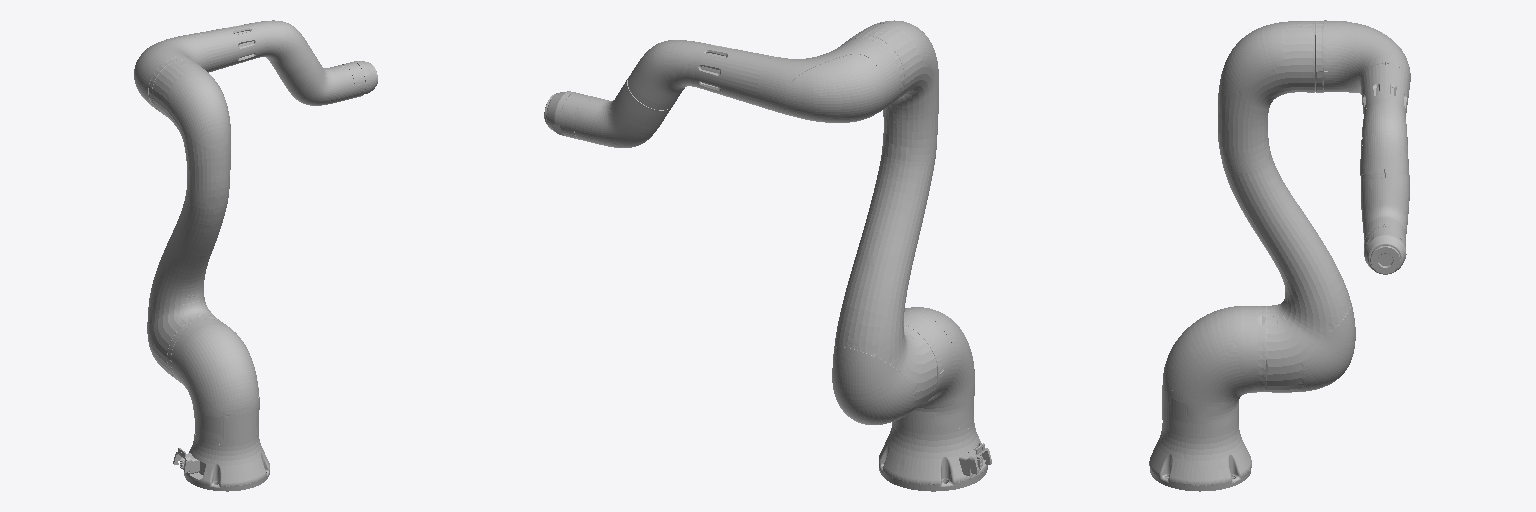
robot.urdf — yl102_sat:
<?xml version="1.0" encoding="utf-8"?>

<robot name="yl102_sat">
<link name="world"/>
  <link name="link0">

                      
    <inertial>
      <origin xyz="0.000247812 0.000247476 0.0505918" rpy="0 0 0" />
      <mass value="4.59375" />
      <inertia ixx="0.0152439" ixy="0.000200106" ixz="0.000124082" iyy="0.0273594" iyz="1.06874e-05" izz="0.0370589" />
    </inertial>
    <visual>
      <origin xyz="0 0 0" rpy="0 0 0" />
      <geometry>
        <mesh filename="meshes/link0.stl"    />
      </geometry>
      <material name="">
        <color rgba="0.75294 0.75294 0.75294 1" />
      </material>
    </visual>
    <collision>
      <origin xyz="0 0 0" rpy="0 0 0" />
      <geometry>
        <mesh filename="meshes/link0.stl"    />
      </geometry>
    </collision>
  </link>

  <link name="link1">
    <inertial>
    <origin xyz="0.000142015 0.0285074 0.119455" rpy="0 0 0" />
    <mass value="10.51657" />
    <inertia ixx="0.0551209" ixy="-5.13223e-05" ixz="-4.83089e-05" iyy="0.0494305" iyz="-0.0110939" izz="0.0363787" />
  </inertial>
    <visual>
      <origin xyz="0 0 0" rpy="0 0 0" />
      <geometry>
        <mesh filename="meshes/link1.stl"    />
      </geometry>
      <material name="">
        <color rgba="0.75294 0.75294 0.75294 1" />
      </material>
    </visual>
    <collision>
      <origin xyz="0 0 0" rpy="0 0 0" />
      <geometry>
        <mesh filename="meshes/link1.stl"    />
      </geometry>
    </collision>
  </link>

  <link name="link2">
<inertial>
  <origin xyz="0.297682 0.000392564 0.0575885" rpy="0 0 0" />
  <mass value="13.550371" />
  <inertia ixx="0.102354" ixy="0.147595" ixz="0.00104147" iyy="1.48599" iyz="-0.000372513" izz="1.43248" />
</inertial>
    <visual>
      <origin xyz="0 0 0" rpy="0 0 0" />
      <geometry>
        <mesh filename="meshes/link2.stl"    />
      </geometry>
      <material name="">
        <color rgba="0.75294 0.75294 0.75294 1" />
      </material>
    </visual>
    <collision>
      <origin xyz="0 0 0" rpy="0 0 0" />
      <geometry>
        <mesh filename="meshes/link2.stl"    />
      </geometry>
    </collision>
  </link>

  <link name="link3">

<inertial>
  <origin xyz="0.0320635 0.000171503 0.0829559" rpy="0 0 0" />
  <mass value="5.290133" />
  <inertia ixx="0.0153011" ixy="-0.00582277" ixz="2.85545e-05" iyy="0.022998" iyz="-2.03293e-05" izz="0.0180684" />
</inertial>
    <visual>
      <origin xyz="0 0 0" rpy="0 0 0" />
      <geometry>
        <mesh filename="meshes/link3.stl"    />
      </geometry>
      <material name="">
        <color rgba="0.75294 0.75294 0.75294 1" />
      </material>
    </visual>
    <collision>
      <origin xyz="0 0 0" rpy="0 0 0" />
      <geometry>
        <mesh filename="meshes/link3.stl"    />
      </geometry>
    </collision>
  </link>

  <link name="link4">
<inertial>
  <origin xyz="0.013664 -0.000984818 0.150329" rpy="0 0 0" />
  <mass value="3.595617" />
  <inertia ixx="0.0268371" ixy="-0.0043623" ixz="2.99902e-05" iyy="0.0282347" iyz="0.000149903" izz="0.00518421" />
</inertial>

    <visual>
      <origin xyz="0 0 0" rpy="0 0 0" />
      <geometry>
        <mesh filename="meshes/link4.stl"    />
      </geometry>
      <material name="">
        <color rgba="0.75294 0.75294 0.75294 1" />
      </material>
    </visual>
    <collision>
      <origin xyz="0 0 0" rpy="0 0 0" />
      <geometry>
        <mesh filename="meshes/link4.stl"    />
      </geometry>
    </collision>
  </link>

  <link name="link5">
<inertial>
  <origin xyz="0.015522 0.000368096 0.0840352" rpy="0 0 0" />
  <mass value="2.643843" />
  <inertia ixx="0.00606419" ixy="-0.0016915" ixz="-1.2174e-05" iyy="0.00720539" iyz="-2.18997e-05" izz="0.00353509" />
</inertial>
    <visual>
      <origin xyz="0 0 0" rpy="0 0 0" />
      <geometry>
        <mesh filename="meshes/link5.stl"    />
      </geometry>
      <material name="">
        <color rgba="0.75294 0.75294 0.75294 1" />
      </material>
    </visual>
    <collision>
      <origin xyz="0 0 0" rpy="0 0 0" />
      <geometry>
        <mesh filename="meshes/link5.stl"    />
      </geometry>
    </collision>
  </link>

  <link name="link6">
  <inertial>
    <origin xyz="0.000133705 -0.000192709 0.0334362" rpy="0 0 0" />
    <mass value="1.094456" />
    <inertia ixx="0.000502088" ixy="-4.44825e-07" ixz="2.32639e-07" iyy="0.000502074" iyz="-3.01736e-07" izz="0.000531034" />
  </inertial>
    <visual>
      <origin xyz="0 0 0" rpy="0 0 0" />
      <geometry>
        <mesh filename="meshes/link6.stl"    />
      </geometry>
      <material name="">
        <color rgba="0.75294 0.75294 0.75294 1" />
      </material>
    </visual>
    <collision>
      <origin xyz="0 0 0" rpy="0 0 0" />
      <geometry>
        <mesh filename="meshes/link6.stl"    />
      </geometry>
    </collision>
  </link>

 

  <link name="link_sat">
  <inertial>
    <origin xyz="-0.00262909 -0.0000698 0.15875254" rpy="0 0 0" />
    <mass value="8.746" />
    <inertia ixx="0.44692439" ixy="-0.00016718" ixz="-0.00042307" iyy="0.40932882" iyz="-0.00000181" izz="0.29784756" />
  </inertial>
    <visual>
      <origin xyz="0 0 0" rpy="0 0 0" />
      <geometry>
        <mesh filename="meshes/link_ASM_SAT_Module_without_Pannel.stl"    />
      </geometry>
      <material name="">
        <color rgba="0.75294 0.75294 0.75294 1" />
      </material>
    </visual>
    <collision>
      <origin xyz="0 0 0" rpy="0 0 0" />
      <geometry>
        <mesh filename="meshes/link_ASM_SAT_Module_without_Pannel.stl"    />
      </geometry>
    </collision>
  </link>


<!-- joints -->
<joint name="world_fixed" type="fixed">
   <parent link="world" />
    <child link="link0" />
</joint>
  <joint name="joint0" type="revolute">
    <origin xyz="0 0 0.11475" rpy="0 0 0" />
    <parent link="link0" />
    <child link="link1" />
    <axis xyz="0 0 1" />
    <limit
      lower="-3.141592"
      upper="3.141592"
      effort="400"
      velocity="3" />
  </joint>

  <joint name="joint1" type="revolute">
    <origin xyz="0 0.11975 0.1639" rpy="0  -1.570796327    -1.570796327" />
    <parent link="link1" />
    <child link="link2" />
    <axis xyz="0 0 1" />
    <limit
      upper="4.712388"
      lower="-1.570796"
      effort="400"
      velocity="2.5" />
  </joint>

  <joint name="joint2" type="revolute">
    <origin xyz="0.674 0 0.13729" rpy="0 0 1.570796327" />
    <parent link="link2" />
    <child link="link3" />
    <axis xyz="0 0 1" />
    <limit
      lower="-3.141592"
      upper="3.141592"
      effort="100"
      velocity="2.6179938779914944" />
  </joint>

  <joint name="joint3" type="revolute">
    <origin xyz="0.14461 0.0 0.12844" rpy="1.570796327 0 1.570796327 " />
    <parent link="link3" />
    <child link="link4" />
    <axis xyz="0 0 1" />
    <limit
      lower="-3.141592"
      upper="3.141592"
      effort="49"
      velocity="2.6179938779914944" />
  </joint>

  <joint name="joint4" type="revolute">
  <!-- 0      1.0471975511966   -3.14159265358979 -->
    <origin xyz="0.08141 0 0.26886" rpy="  3.14159265358979      -2.0943951023932   0" />
    <parent link="link4" />
    <child link="link5" />
    <axis xyz="0 0 1" />
    <limit
      lower="-3.141592"
      upper="3.141592"
      effort="54.88"
      velocity="3.141592653589793" />
  </joint>

  <joint name="joint5" type="revolute">
    <origin xyz="0.08259 0 0.15411" rpy="0  1.0471975511966  0" />
    <parent link="link5" />
    <child link="link6" />
    <axis xyz="0 0 1" />
    <limit
      lower="-3.141592"
      upper="3.141592"
      effort="27.44"
      velocity="3.141592653589793" />
  </joint>

 
  <joint name="sat_fixed" type="fixed">
    <origin xyz="0 0 0.07385" rpy="0 0 0" />
    <parent link="link6" />
    <child link="link_sat" />
    <axis xyz="0 0 0" />
  </joint>

</robot>

--- Facts derived from the render (not from the file) ---
Views: 3 orthographic renders of the robot side by side, from view 1: azimuth 30°, elevation 25°; view 2: azimuth 150°, elevation 25°; view 3: azimuth 270°, elevation 25°.
Model yl102_sat with 9 links and 8 joints (6 revolute, 2 fixed), rooted at world, posed all joints at 0.
Links seen in each view (by area): view 1: link2, link1, link4, link0, link5, link3, link6; view 2: link2, link3, link4, link0, link1, link5, link6; view 3: link2, link1, link0, link4, link3, link5, link6.
Boxes of the visible links, x1=… form: link2: x1=147, y1=57, x2=230, y2=382; link1: x1=171, y1=319, x2=259, y2=444; link4: x1=197, y1=20, x2=312, y2=75; link0: x1=173, y1=434, x2=269, y2=491; link5: x1=277, y1=53, x2=354, y2=105; link3: x1=134, y1=33, x2=209, y2=109; link6: x1=342, y1=61, x2=377, y2=98; link2: x1=832, y1=20, x2=942, y2=424; link3: x1=757, y1=38, x2=900, y2=122; link4: x1=628, y1=40, x2=773, y2=109; link0: x1=879, y1=418, x2=991, y2=491; link1: x1=895, y1=307, x2=974, y2=432; link5: x1=574, y1=77, x2=671, y2=147; link6: x1=544, y1=91, x2=587, y2=139; link2: x1=1218, y1=21, x2=1355, y2=392; link1: x1=1162, y1=306, x2=1257, y2=435; link0: x1=1149, y1=422, x2=1251, y2=491; link4: x1=1360, y1=63, x2=1409, y2=175; link3: x1=1324, y1=20, x2=1410, y2=93; link5: x1=1361, y1=173, x2=1409, y2=242; link6: x1=1364, y1=227, x2=1406, y2=274.
Size in the robot's own frame: 0.7619 by 0.5457 by 1.03 metres.
Meshes: 8 distinct files referenced, 7 mesh visuals loaded (7 binary STL); not drawn: 1 (reference not matched to a file when rendering).
